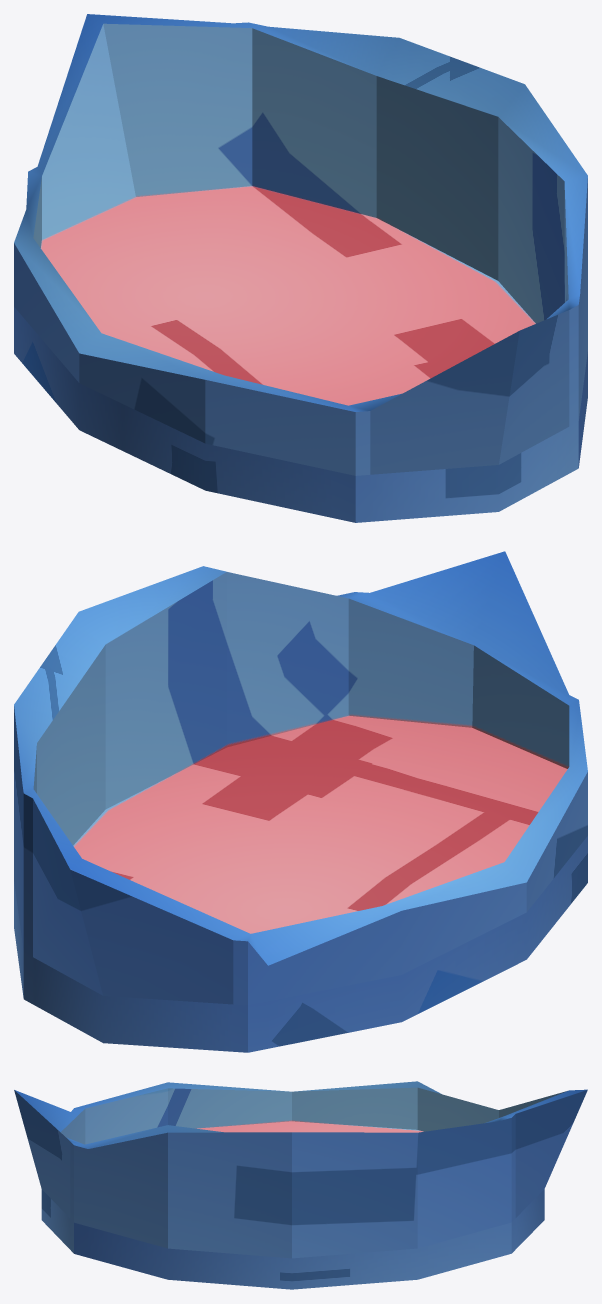
The model's file is catBed.FBX.
The picture shows the model from 3 angles, top to bottom: view 1: azimuth 30°, elevation 25°; view 2: azimuth 150°, elevation 25°; view 3: azimuth 270°, elevation 25°; orthographic projection. The views are drawn at different scales.
Parts seen in each view (by area): view 1: cat_bed001; view 2: cat_bed001; view 3: cat_bed001.
Part boxes in pixels (box(x1,y1,x2,y2)): cat_bed001: box(14, 14, 587, 522); cat_bed001: box(14, 551, 587, 1052); cat_bed001: box(14, 1081, 587, 1289).
Bounding box in the file's own units: 36.1 × 18.36 × 60.68.
1 material, 1 textured.
